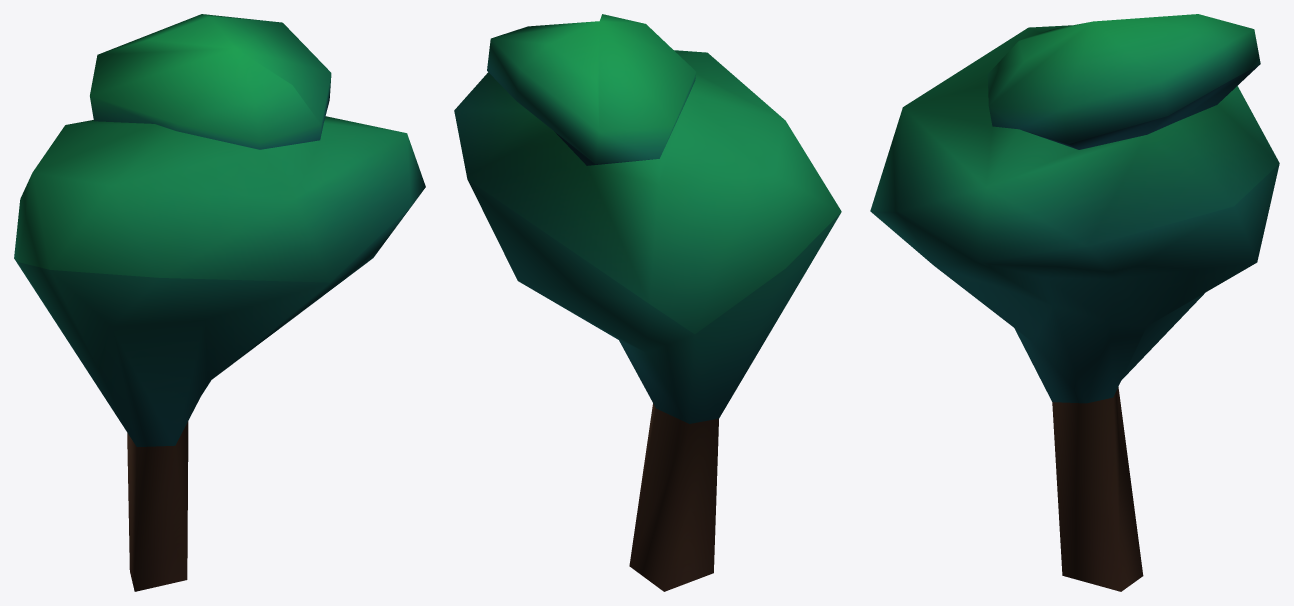
The model's file is Bush_3A.fbx.
The picture shows the model from 3 angles, left to right: view 1: azimuth 30°, elevation 25°; view 2: azimuth 150°, elevation 25°; view 3: azimuth 270°, elevation 25°; orthographic projection. The views are drawn at different scales.
Visible parts, largest first — view 1: Bush_3A; view 2: Bush_3A; view 3: Bush_3A.
Boxes of the visible parts, x1,y1,x2,y2 form: Bush_3A: (14, 14, 425, 591); Bush_3A: (454, 14, 841, 591); Bush_3A: (870, 14, 1279, 591).
Bounding box in the file's own units: 2.74 × 3.84 × 2.36.
